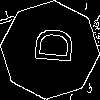D: (25, 25, 74, 65)
